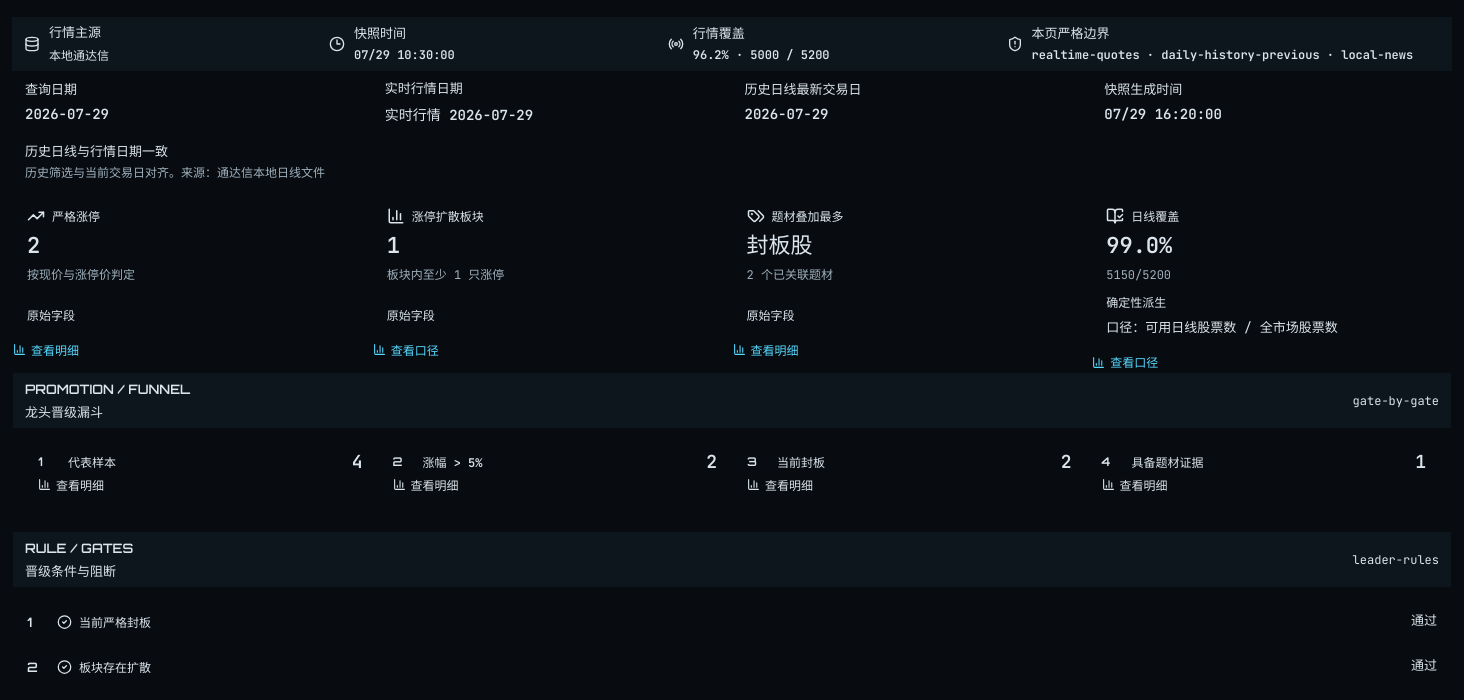
Scenario: DistinctMarketWorkspace › drills promotion-funnel stages into exact named stock sets
Click the button with aria-label "筛选：当前封板 2".
click(801, 463)  # box [747,450,1072,493]
(page scrolled)
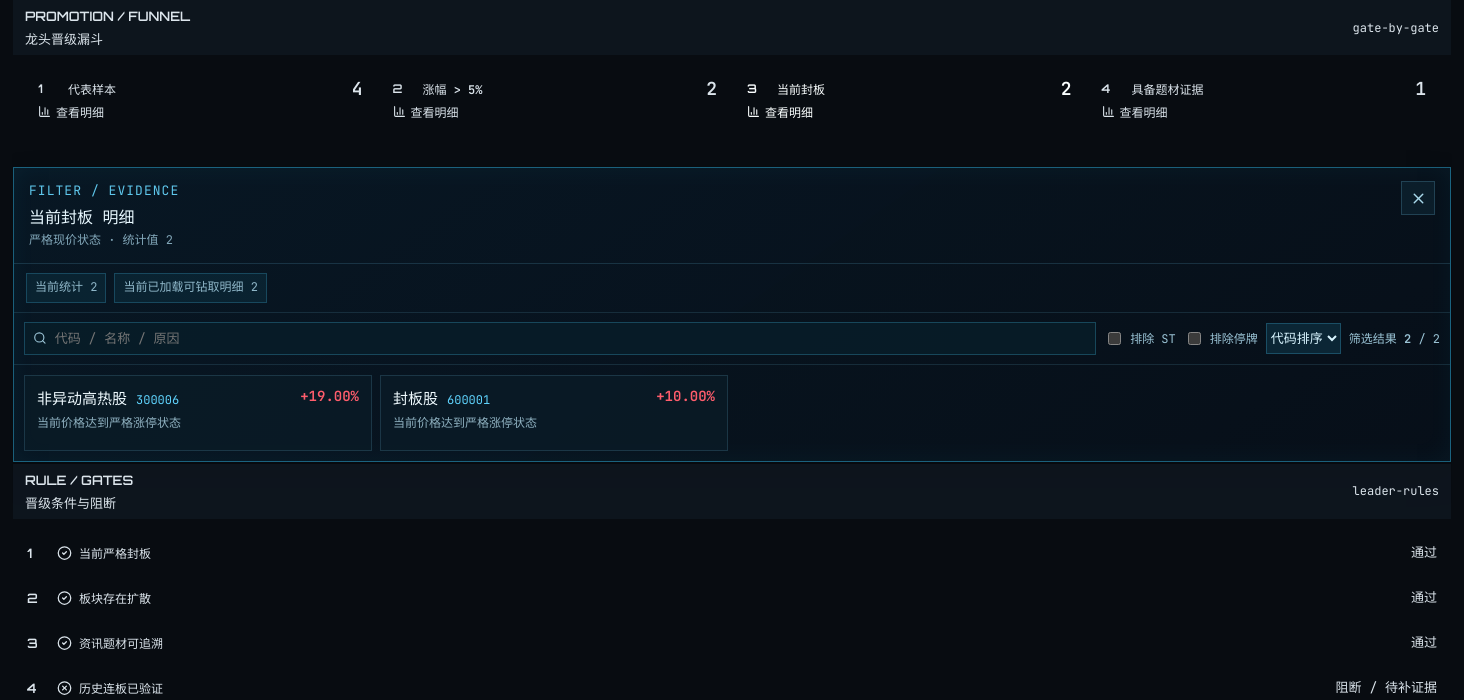
Expected: the element "当前封板 明细" shows "封板股", [393,388,438,408]
Expected: the element "当前封板 明细" shows "非异动高热股", [37,388,127,408]
